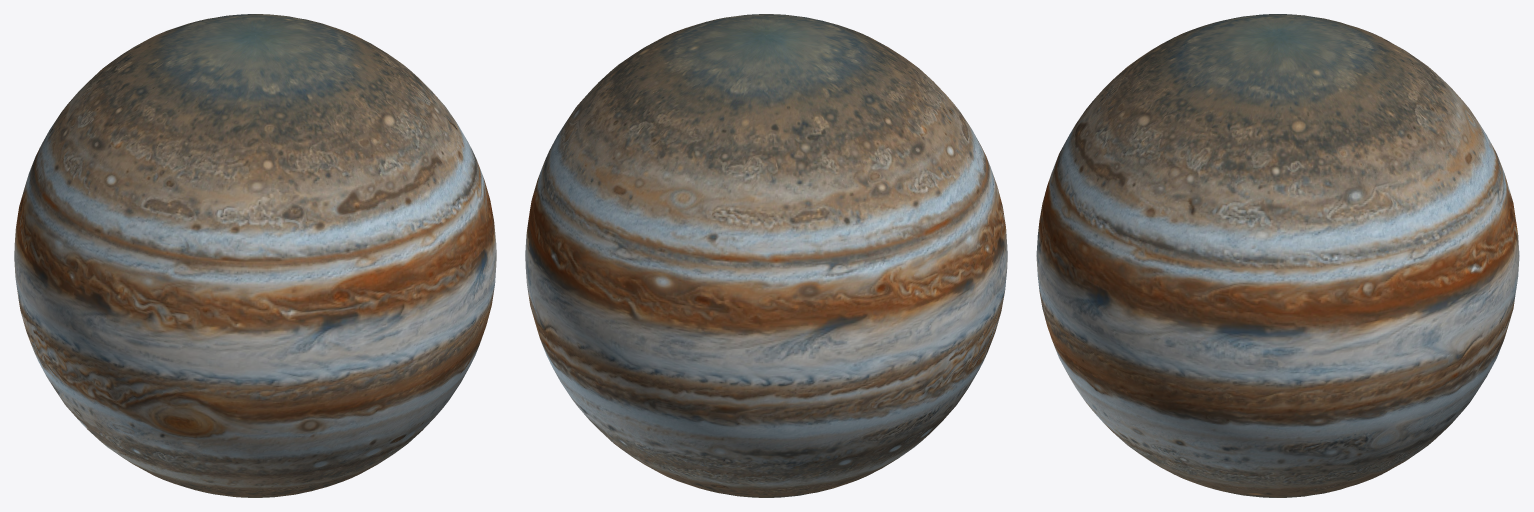
Rendered from earth.gltf.
3 renders of one model, left to right at view 1: azimuth 30°, elevation 25°; view 2: azimuth 150°, elevation 25°; view 3: azimuth 270°, elevation 25°, orthographic.
Parts seen in each view (by area): view 1: Earth; view 2: Earth; view 3: Earth.
Part boxes in pixels (x1,y1,x2,y2): Earth: (14,14,496,497); Earth: (525,14,1007,497); Earth: (1036,14,1519,497).
Size of the model in its own units: 0.536 by 0.5393 by 0.536.
